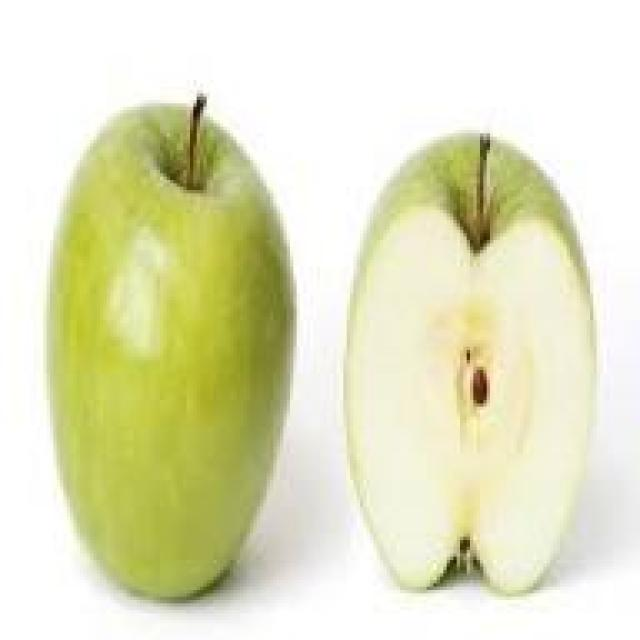apple: (340, 134, 600, 594), (57, 120, 280, 593)
